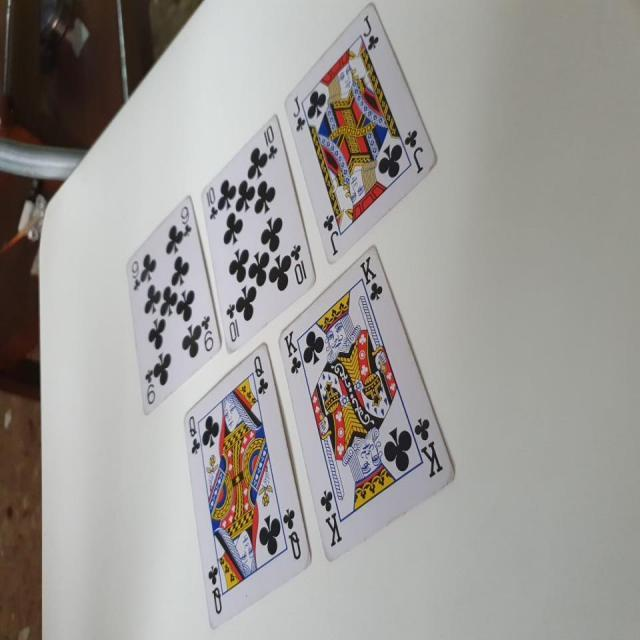10 of clubs: (201, 114, 316, 352)
9 of clubs: (123, 192, 222, 415)
jack of clubs: (282, 1, 438, 265)
king of clubs: (276, 245, 458, 562)
queen of clubs: (184, 344, 314, 632)
